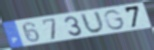3: (63, 15, 85, 37)
6: (21, 21, 42, 43)
7: (124, 5, 142, 29), (41, 17, 58, 41)
G: (103, 9, 127, 31)
U: (79, 9, 106, 35)
